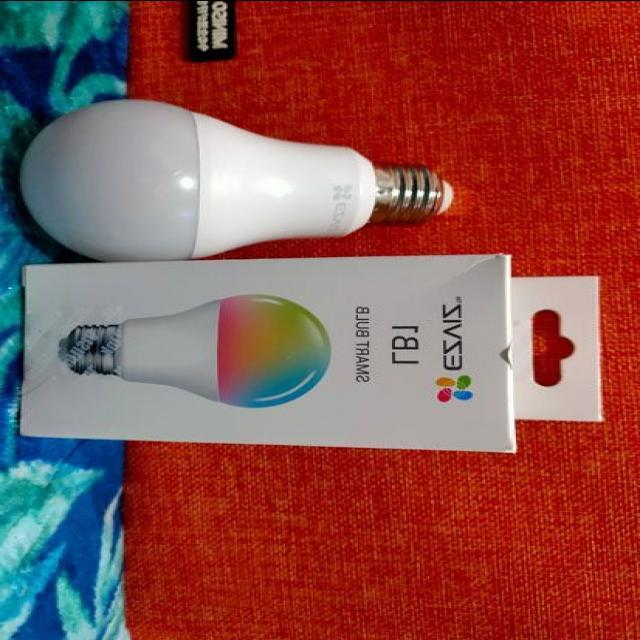light_bulb: (4, 85, 470, 275)
